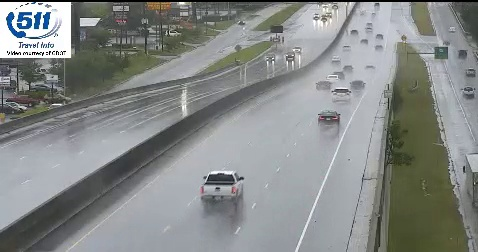car: (201, 171, 243, 200), (318, 110, 340, 125), (332, 88, 350, 102)
